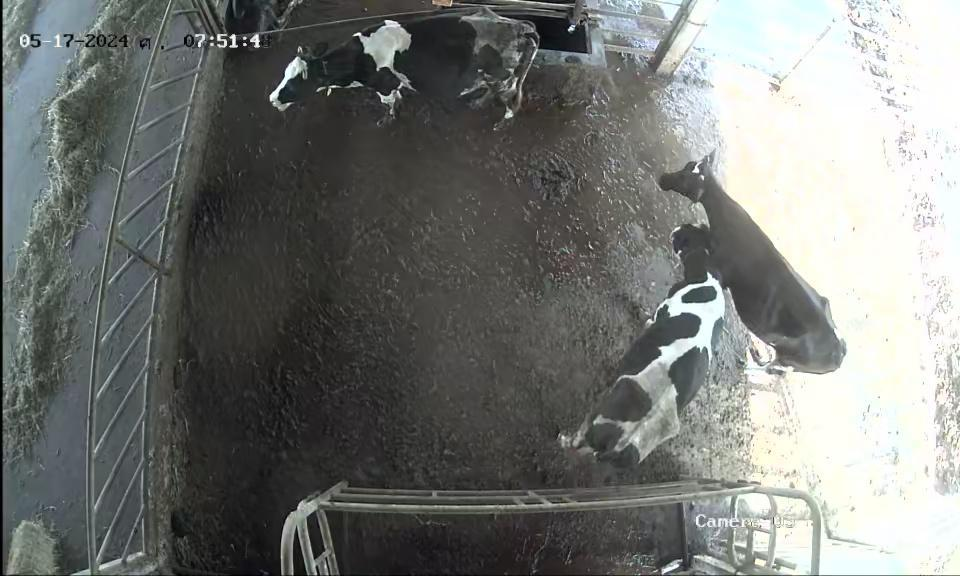stand: (652, 148, 858, 383), (558, 213, 739, 471), (258, 9, 543, 164)
